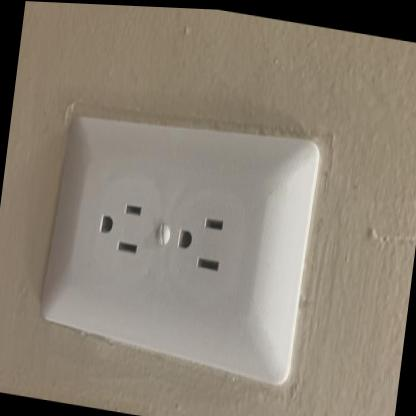OUTLET: (32, 98, 322, 388)
